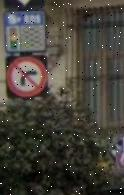leftturnsareforbidden: (6, 56, 47, 99)
